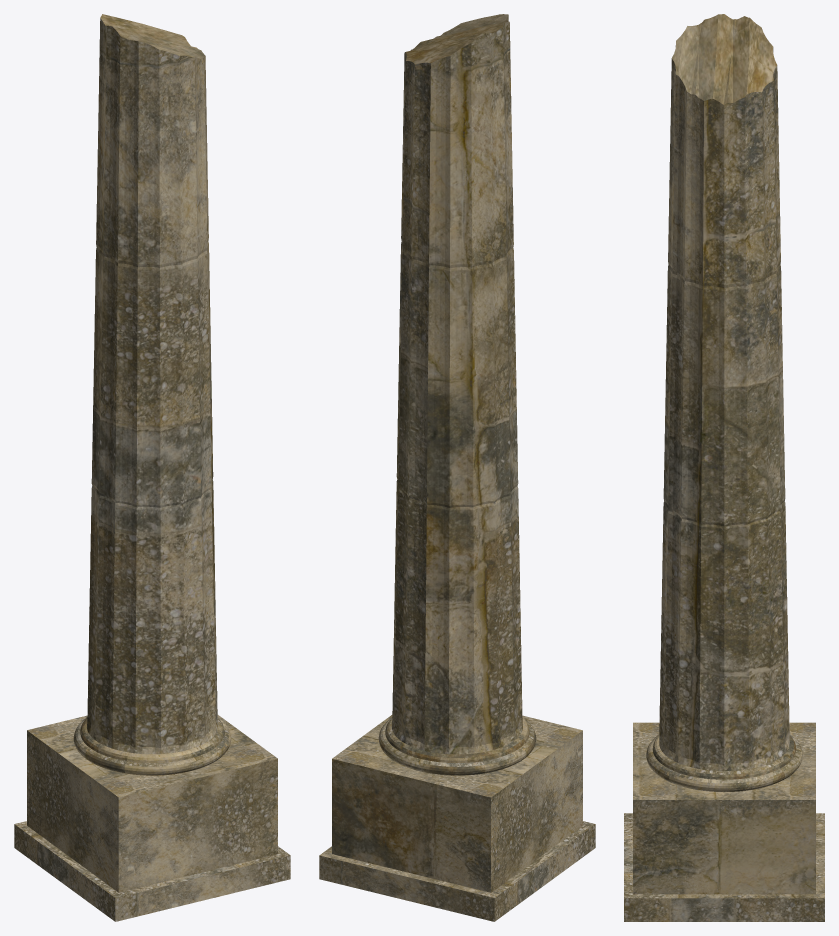
Rendered from Pillar broken long 2.fbx.
The picture shows the model from 3 angles, left to right: view 1: azimuth 30°, elevation 25°; view 2: azimuth 150°, elevation 25°; view 3: azimuth 270°, elevation 25°; orthographic projection.
Parts seen in each view (by area): view 1: Pillar broken long 2; view 2: Pillar broken long 2; view 3: Pillar broken long 2.
Part boxes in pixels (x1,y1,x2,y2): Pillar broken long 2: [14, 14, 290, 921]; Pillar broken long 2: [319, 14, 595, 921]; Pillar broken long 2: [624, 14, 824, 921].
Bounding box in the file's own units: 308 × 1428 × 308.
